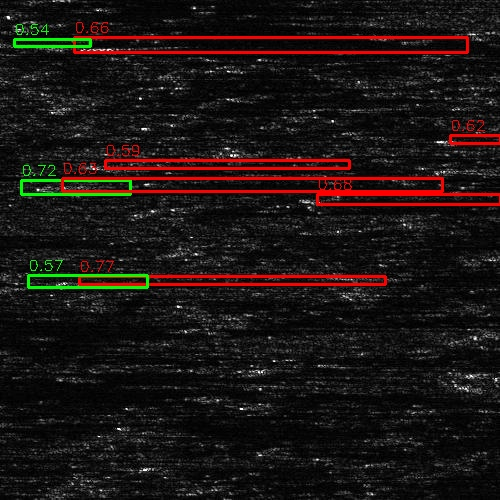rock: (15, 38, 202, 55), (263, 192, 356, 205), (159, 203, 222, 214), (164, 323, 227, 332), (197, 391, 260, 398), (39, 104, 92, 111), (104, 161, 157, 168), (13, 0, 106, 1)
shadow: (109, 38, 457, 55), (0, 390, 135, 411), (310, 192, 482, 205), (191, 203, 359, 214), (131, 161, 385, 168), (229, 391, 480, 398), (196, 323, 363, 332), (0, 491, 99, 500), (88, 185, 338, 188), (66, 104, 150, 111), (0, 308, 89, 313), (60, 0, 146, 1)
